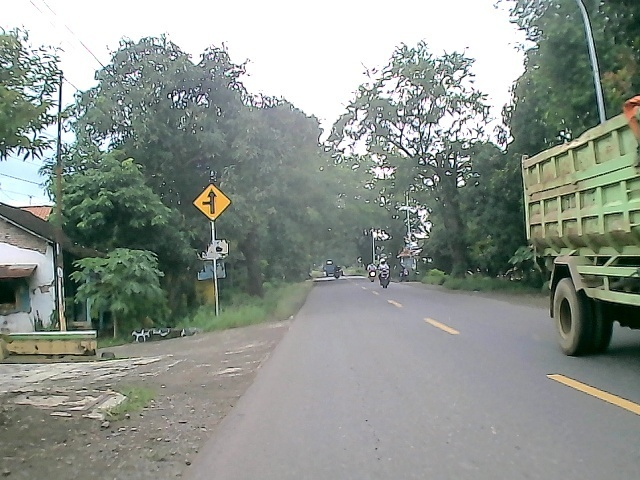Simpang kiri dengan prioritas: (191, 182, 235, 224)
